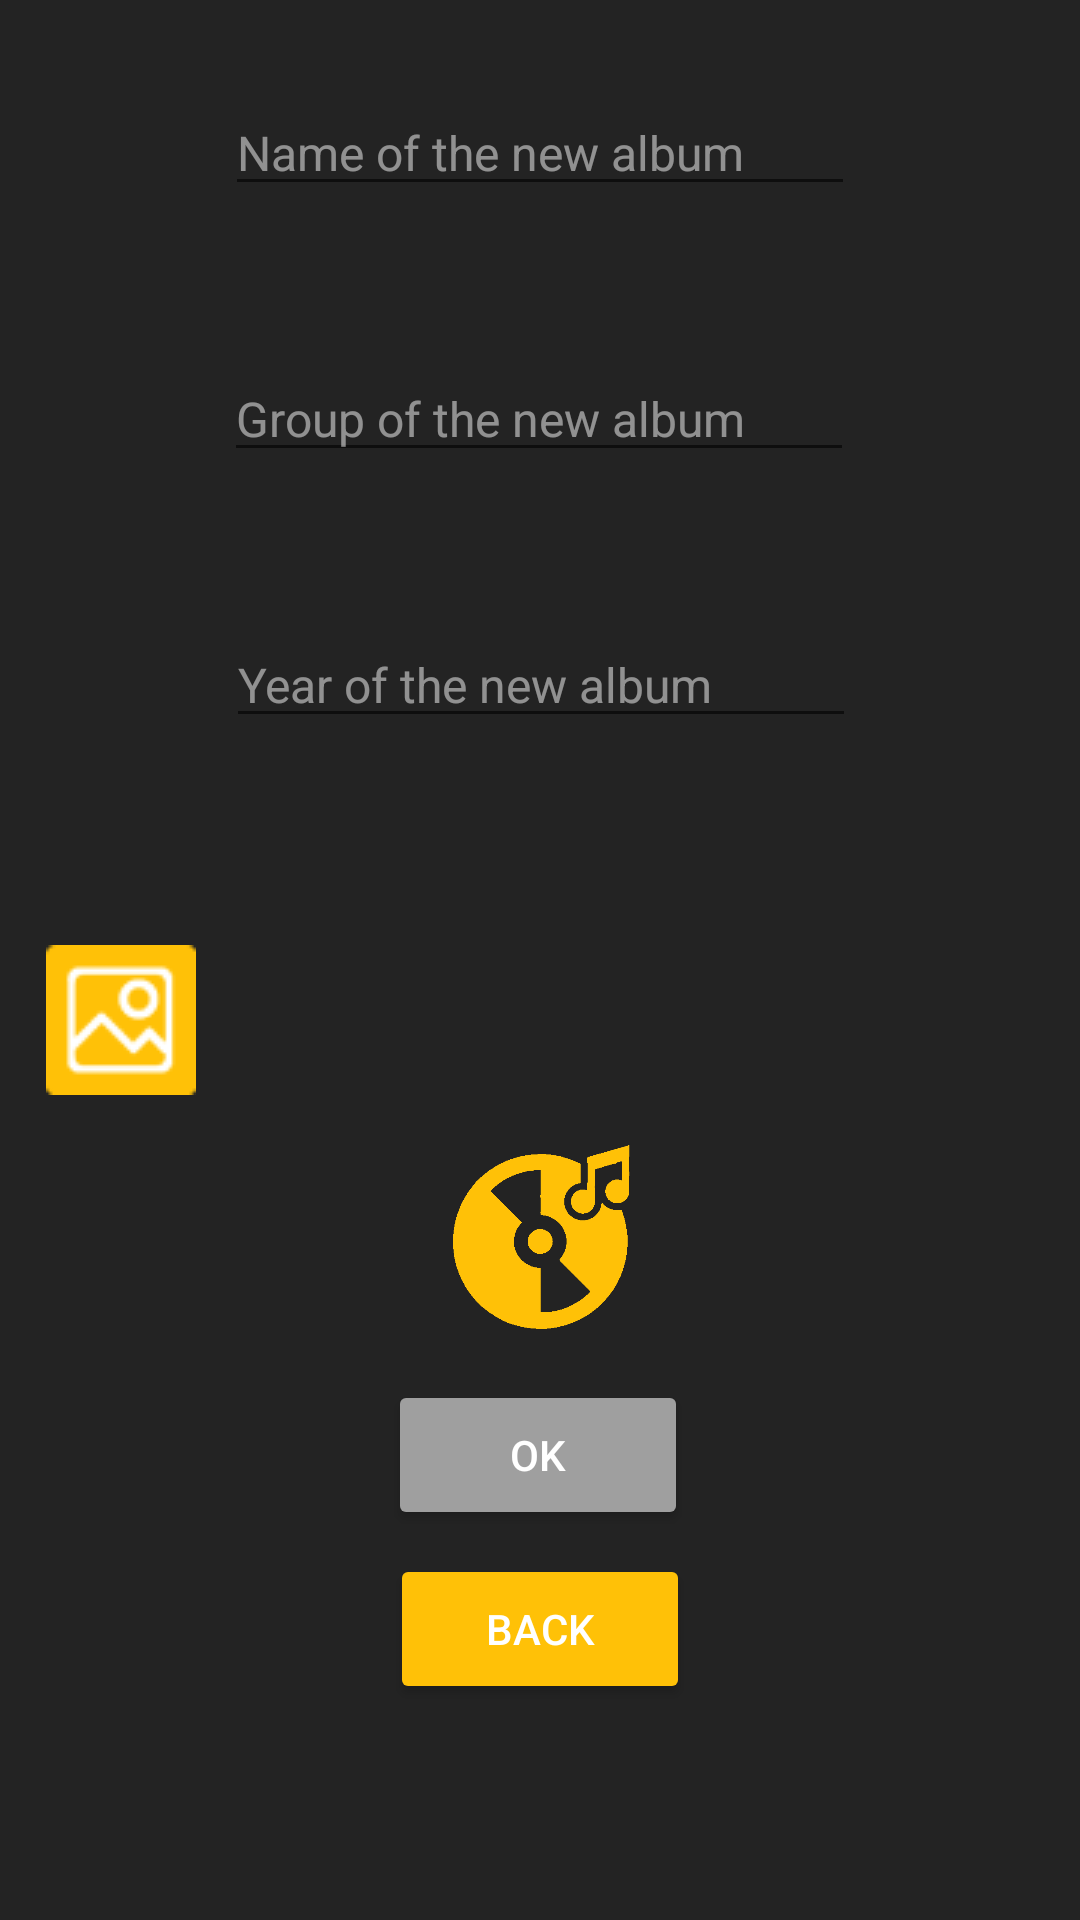

Icons on this 1080x1920 Android screen, each with the point to tap as (x,y):
standart album: (541,1237)
